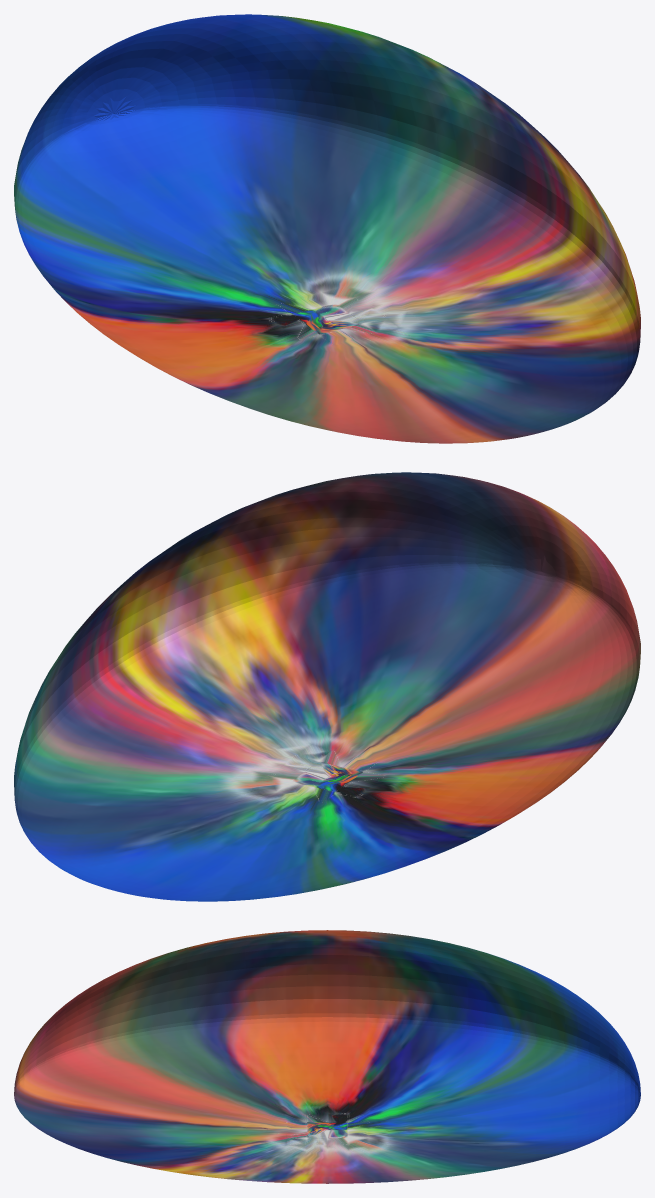
Rendered from october.glb.
3 renders of one model, top to bottom at view 1: azimuth 30°, elevation 25°; view 2: azimuth 150°, elevation 25°; view 3: azimuth 270°, elevation 25°, orthographic. The views are drawn at different scales.
Parts seen in each view (by area): view 1: opalinner; view 2: opalinner; view 3: opalinner.
Part boxes in pixels (left/top/right/bottom): opalinner: left=14, top=14, right=640, bottom=443; opalinner: left=14, top=472, right=640, bottom=901; opalinner: left=14, top=930, right=640, bottom=1183.
Size of what is drawn, in the model's own units: 845 by 429 by 1366.
1 material, 1 textured.
